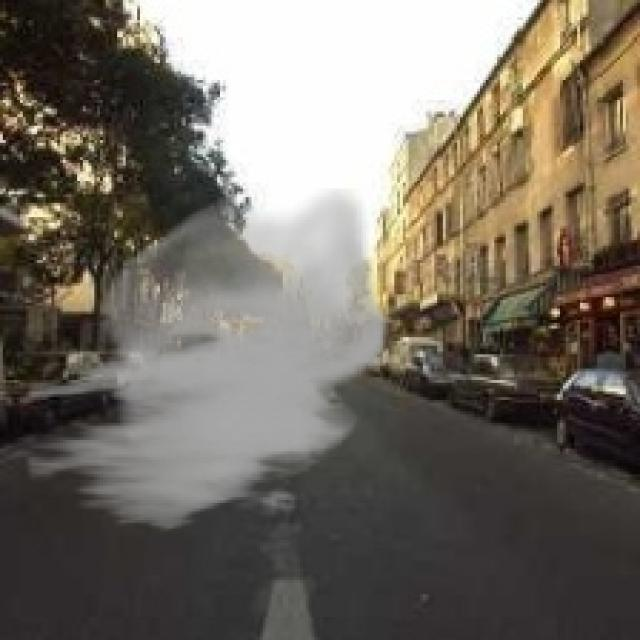smoke: (26, 189, 388, 534)
